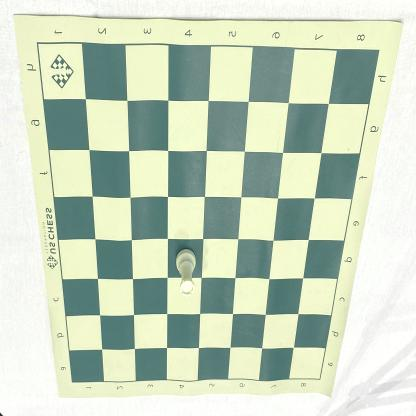white-rook: (175, 248, 197, 296)
